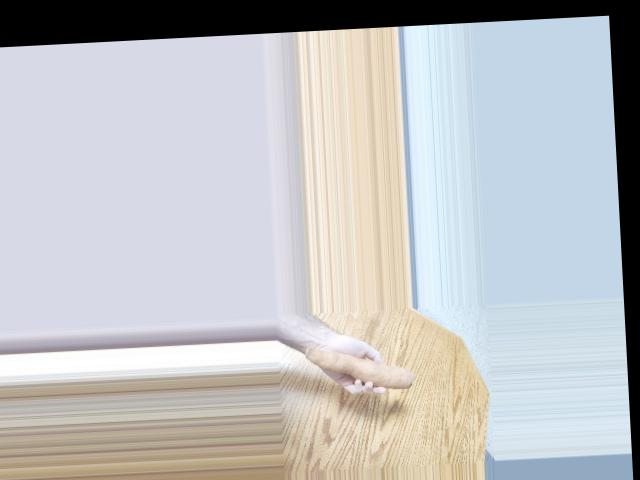sweet_potato: (317, 347, 431, 399)
